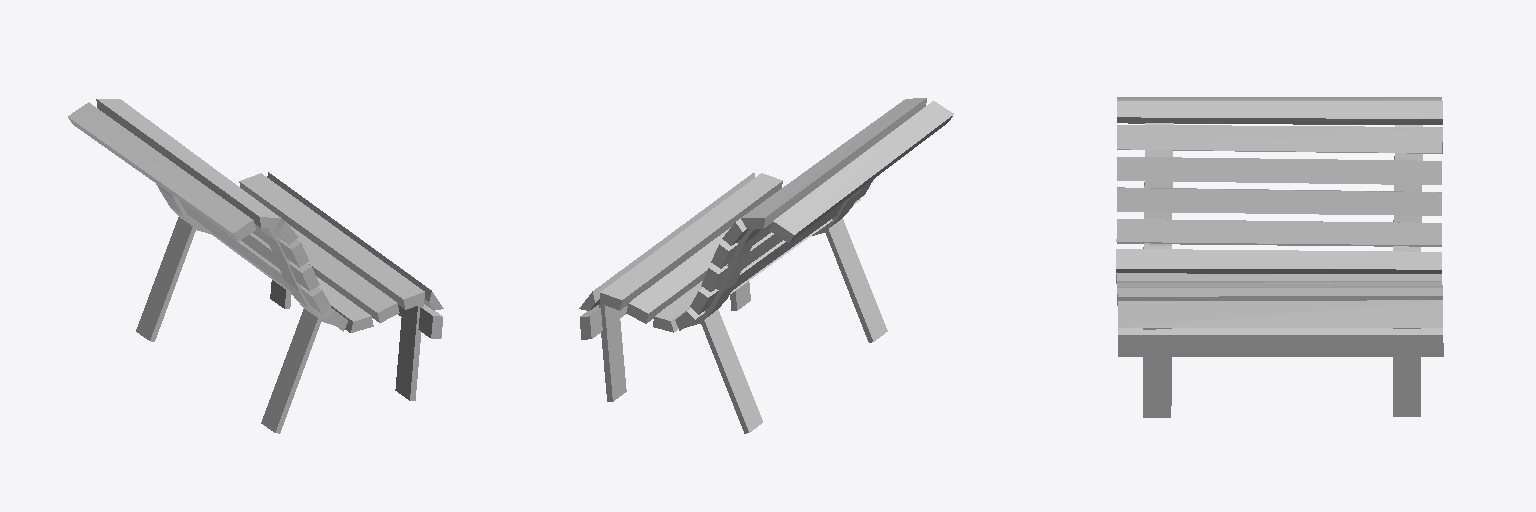
The model's file is bench.obj.
The picture shows the model from 3 angles: view 1: azimuth 30°, elevation 25°; view 2: azimuth 150°, elevation 25°; view 3: azimuth 270°, elevation 25°; orthographic projection.
Parts seen in each view (by area): view 1: Bench_Cube.002; view 2: Bench_Cube.002; view 3: Bench_Cube.002.
Part boxes in pixels (left/top/right/bottom): Bench_Cube.002: left=68, top=99, right=443, bottom=433; Bench_Cube.002: left=579, top=98, right=953, bottom=433; Bench_Cube.002: left=1116, top=97, right=1443, bottom=417.
Size of the model in its own units: 3.51 by 3.66 by 4.62.